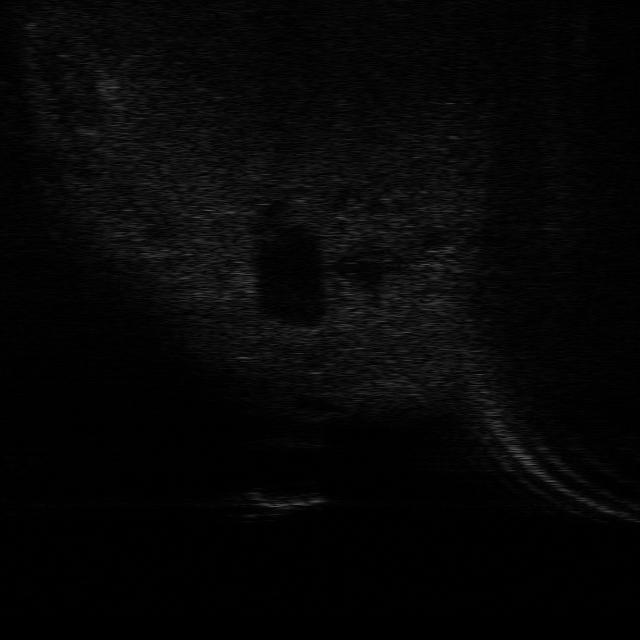cube: (244, 488, 332, 520)
